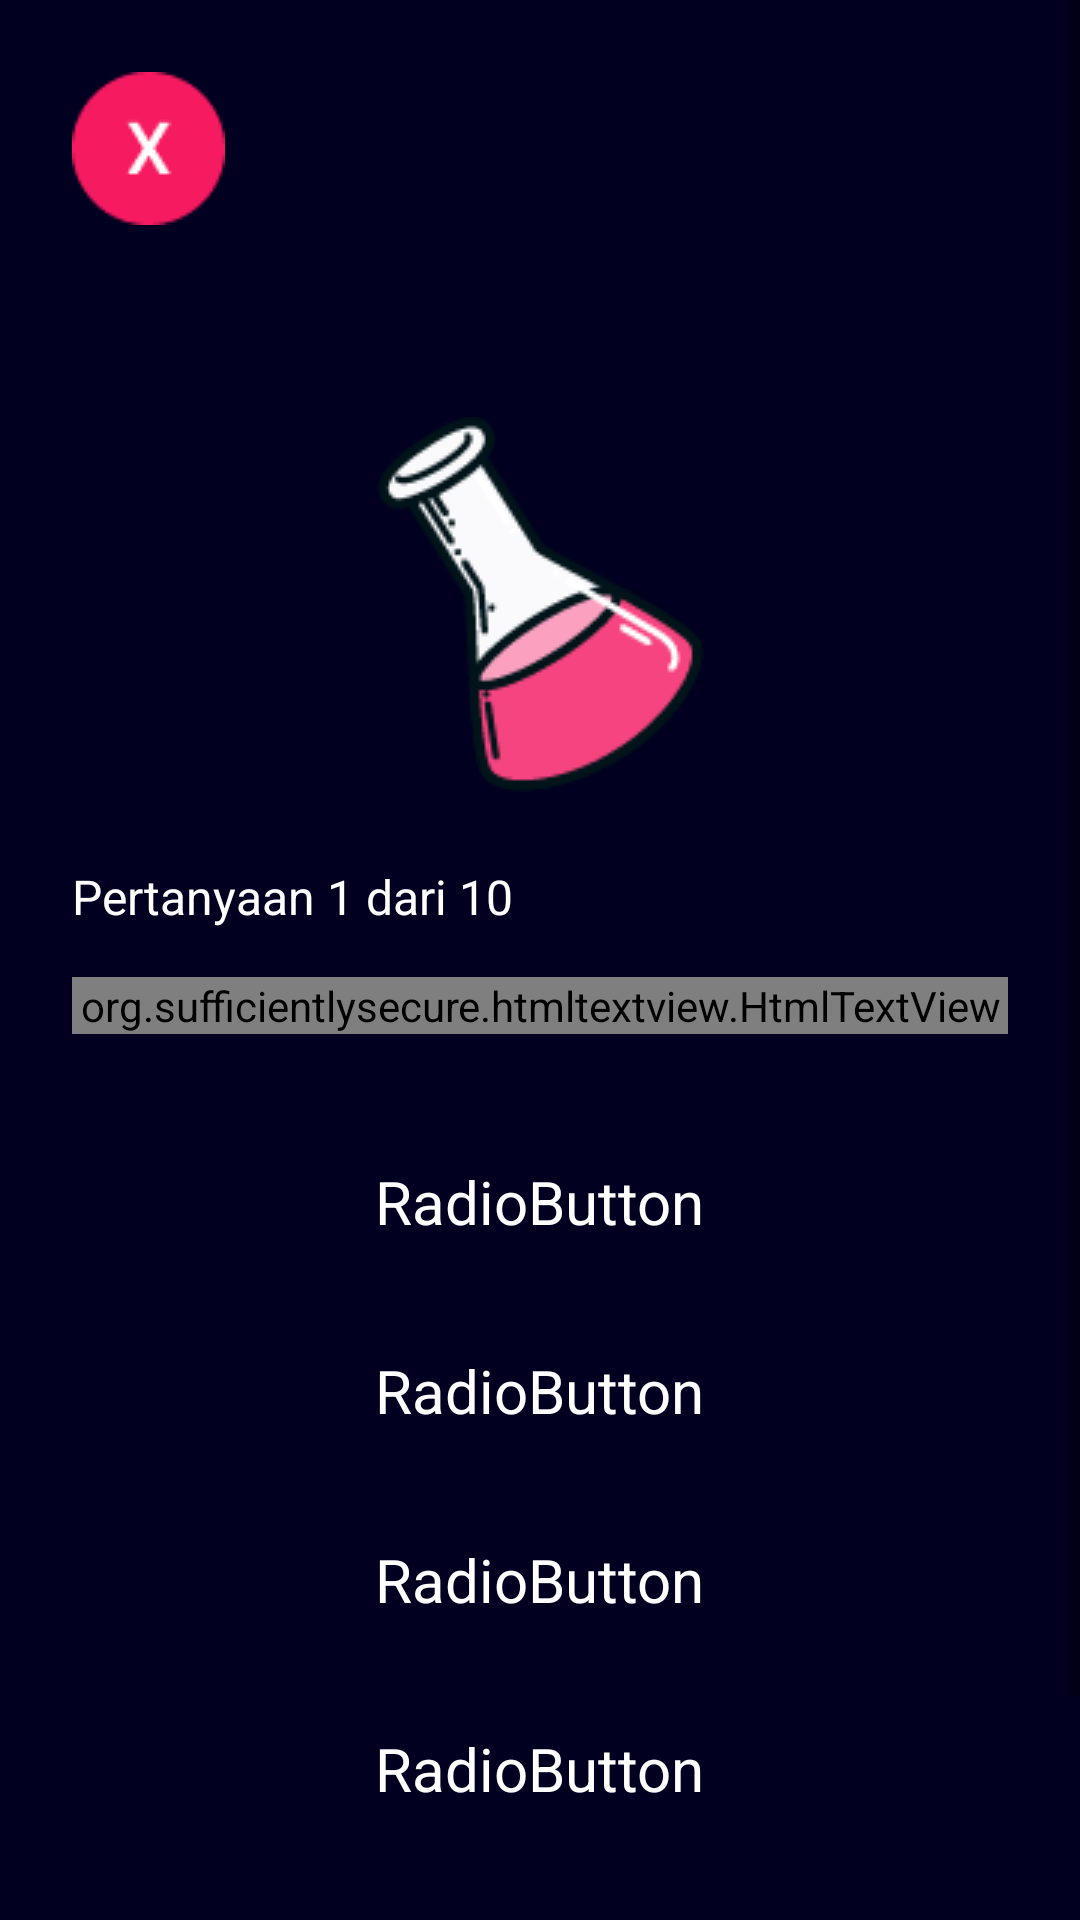

Named icons in this screenshot (1080x1920) and their bounding boxes, (x1, y1, x2, y2):
botol: (385, 425, 693, 781)
